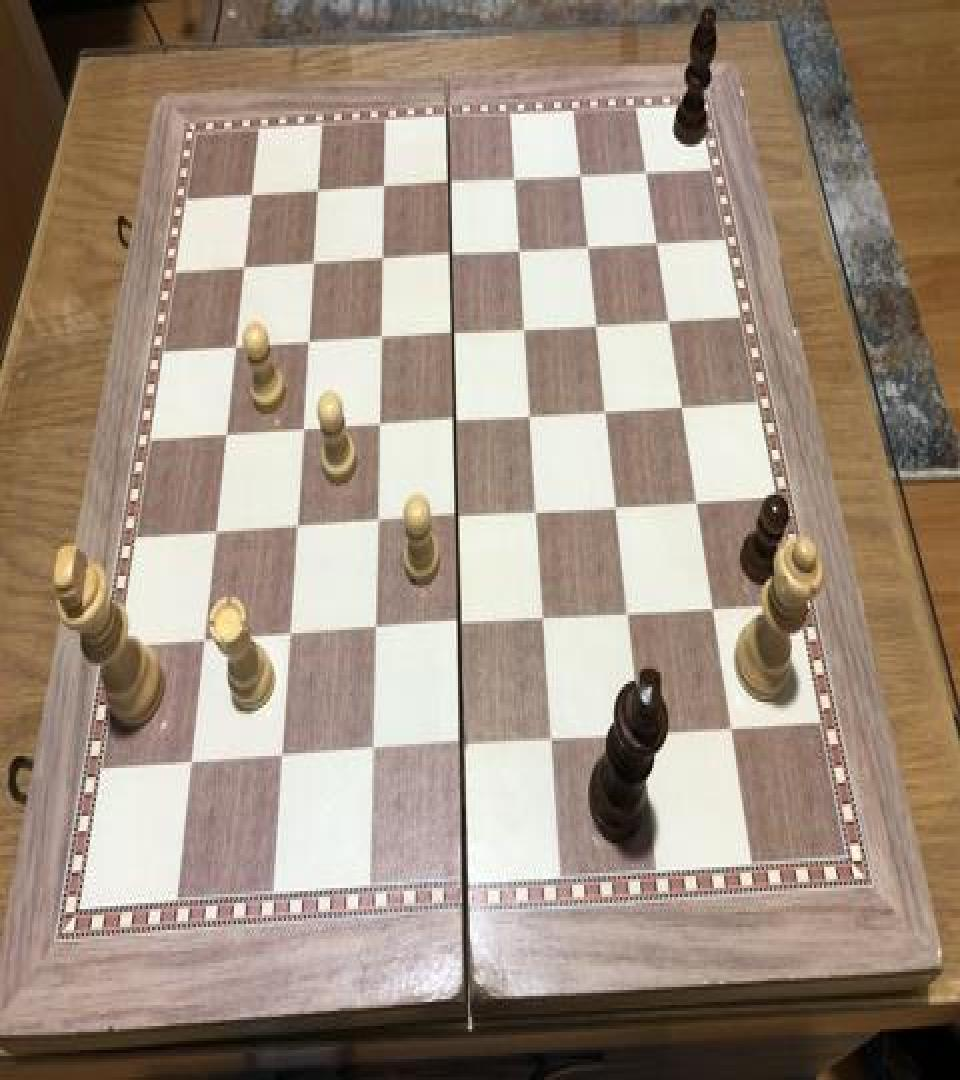xcorner: (634, 712, 658, 749), (545, 718, 569, 755), (636, 158, 660, 194), (572, 160, 596, 196), (507, 164, 531, 200), (442, 166, 466, 202), (376, 170, 400, 206), (244, 176, 268, 212), (647, 228, 671, 264), (580, 231, 604, 267), (512, 234, 536, 270), (444, 237, 468, 273), (375, 242, 399, 278), (306, 244, 330, 280), (236, 248, 260, 284), (659, 304, 683, 340), (588, 308, 612, 344), (517, 312, 541, 348), (445, 315, 469, 351), (373, 320, 397, 356), (300, 322, 324, 358), (227, 327, 251, 363), (673, 388, 697, 424), (598, 393, 622, 429), (523, 398, 547, 434), (447, 400, 471, 436), (371, 405, 395, 441), (295, 410, 319, 446), (218, 414, 242, 450), (687, 483, 711, 519), (609, 488, 633, 524), (529, 492, 553, 528), (449, 496, 473, 532), (369, 501, 393, 537), (288, 507, 312, 543), (207, 512, 231, 548), (704, 588, 728, 624), (621, 592, 645, 628), (537, 598, 561, 634), (452, 604, 476, 640), (367, 609, 391, 645), (281, 615, 305, 651), (194, 621, 218, 657), (723, 706, 747, 742), (455, 724, 479, 760), (364, 730, 388, 766), (273, 738, 297, 774), (181, 744, 205, 780), (310, 173, 334, 208)
